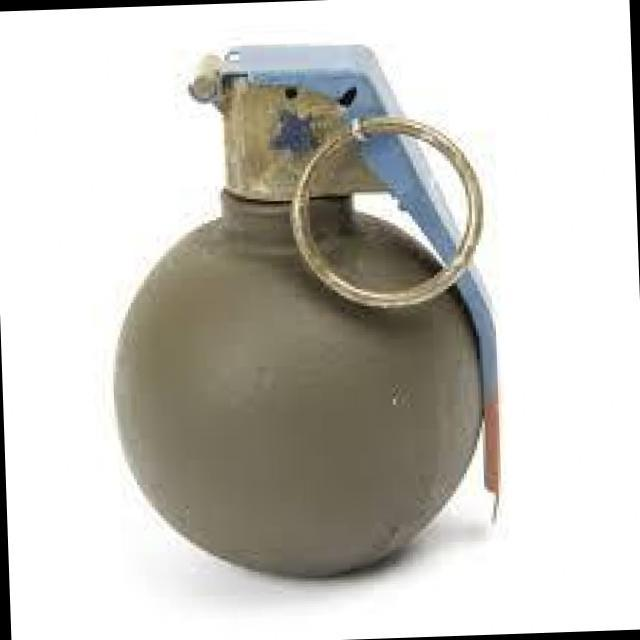grenade: (94, 31, 502, 582)
